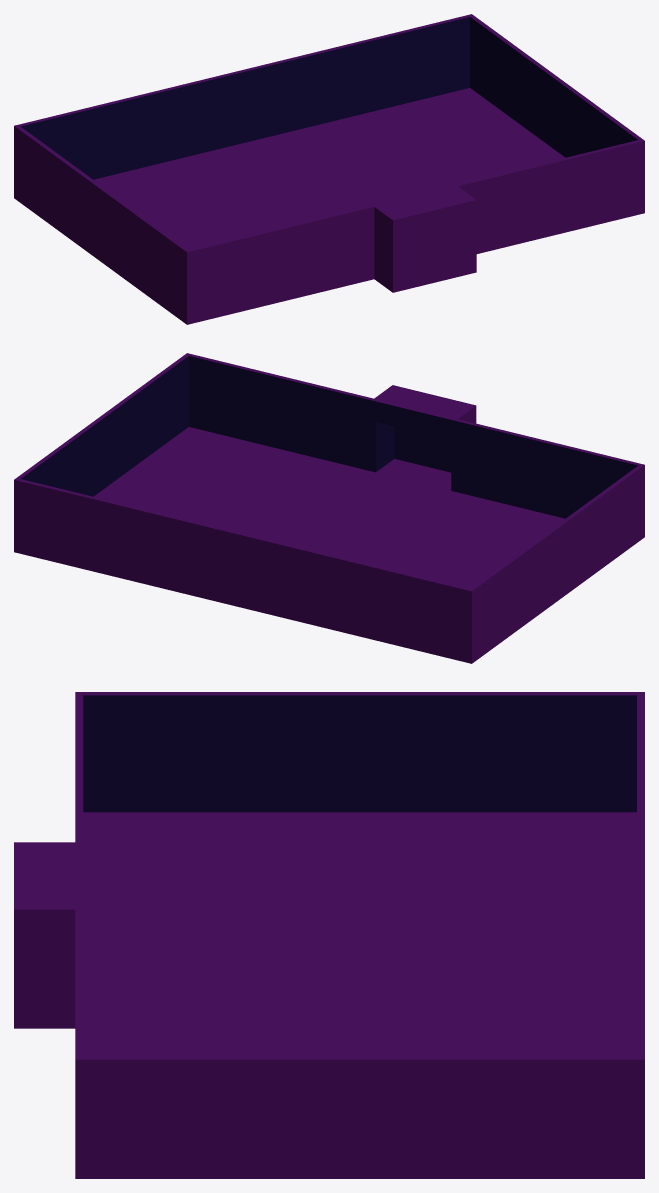
The model's file is env_basic_1.fbx.
3 renders of one model, top to bottom at view 1: azimuth 30°, elevation 25°; view 2: azimuth 150°, elevation 25°; view 3: azimuth 270°, elevation 25°, orthographic. The views are drawn at different scales.
Visible parts, largest first — view 1: Building; view 2: Building; view 3: Building.
Boxes of the visible parts, box(x1,y1,x2,y2) form: Building: box(14, 14, 644, 324); Building: box(14, 353, 644, 663); Building: box(14, 692, 644, 1178).
Bounding box in the file's own units: 12278 × 1856 × 8907.
